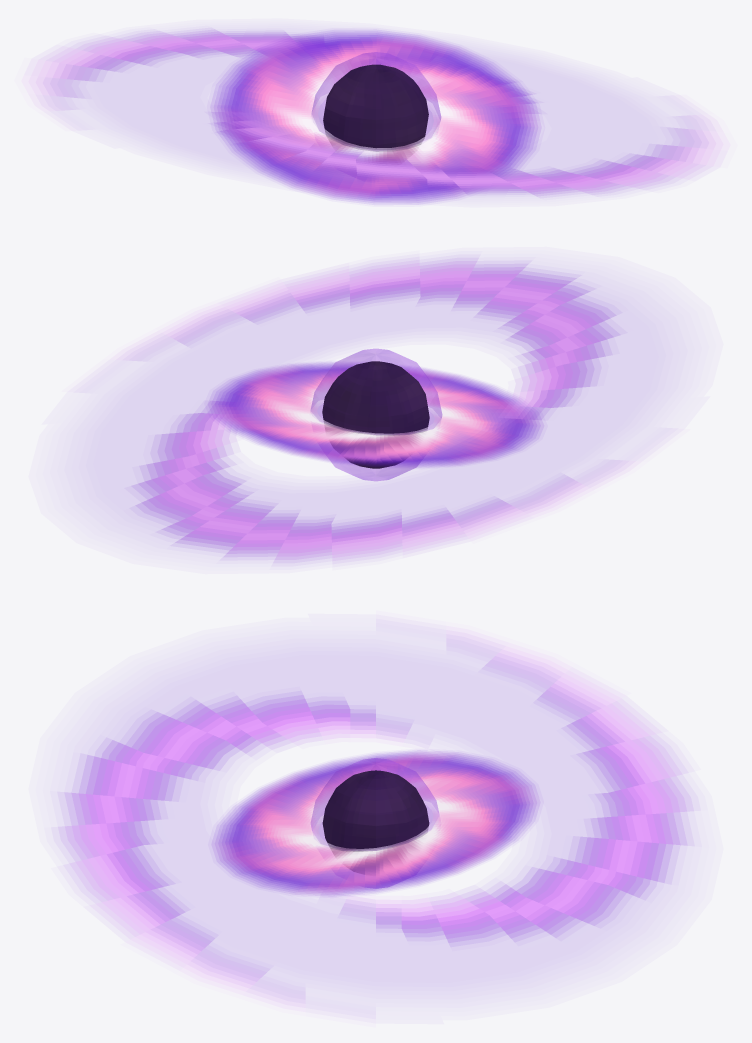
The model's file is blackhole.glb.
3 views of the same model, one above another, from view 1: azimuth 30°, elevation 25°; view 2: azimuth 150°, elevation 25°; view 3: azimuth 270°, elevation 25° (orthographic).
Visible parts, largest first — view 1: blackhole; view 2: blackhole; view 3: blackhole.
Part boxes in pixels (x1,y1,x2,y2): blackhole: [28, 28, 723, 204]; blackhole: [116, 257, 635, 563]; blackhole: [57, 630, 694, 1007].
Size of the model in its own units: 295 by 60.56 by 298.
Materials: 4 (4 with a texture image).
